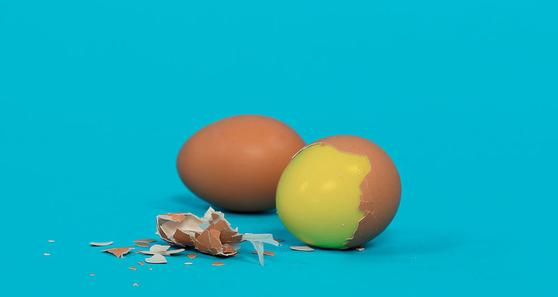egg: (174, 111, 311, 215)
